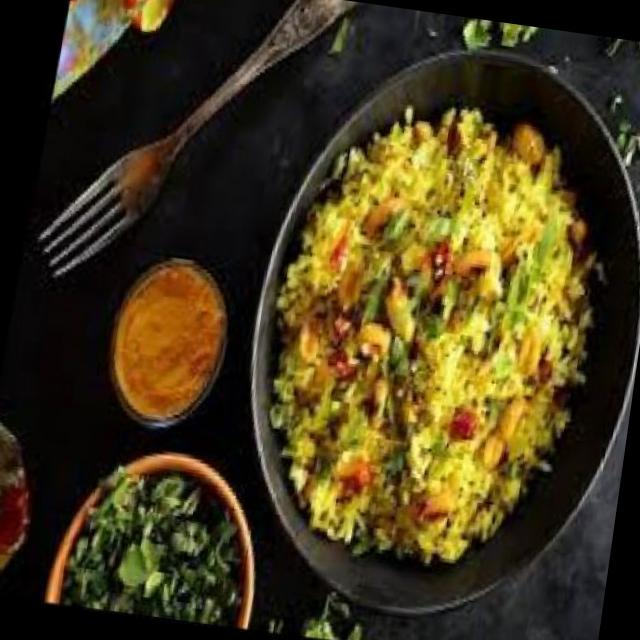poha: (230, 84, 623, 586)
